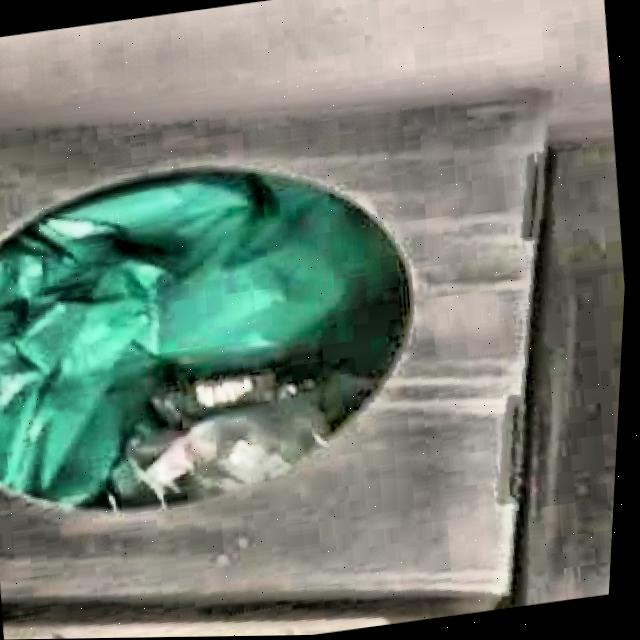metal: (116, 402, 331, 509)
